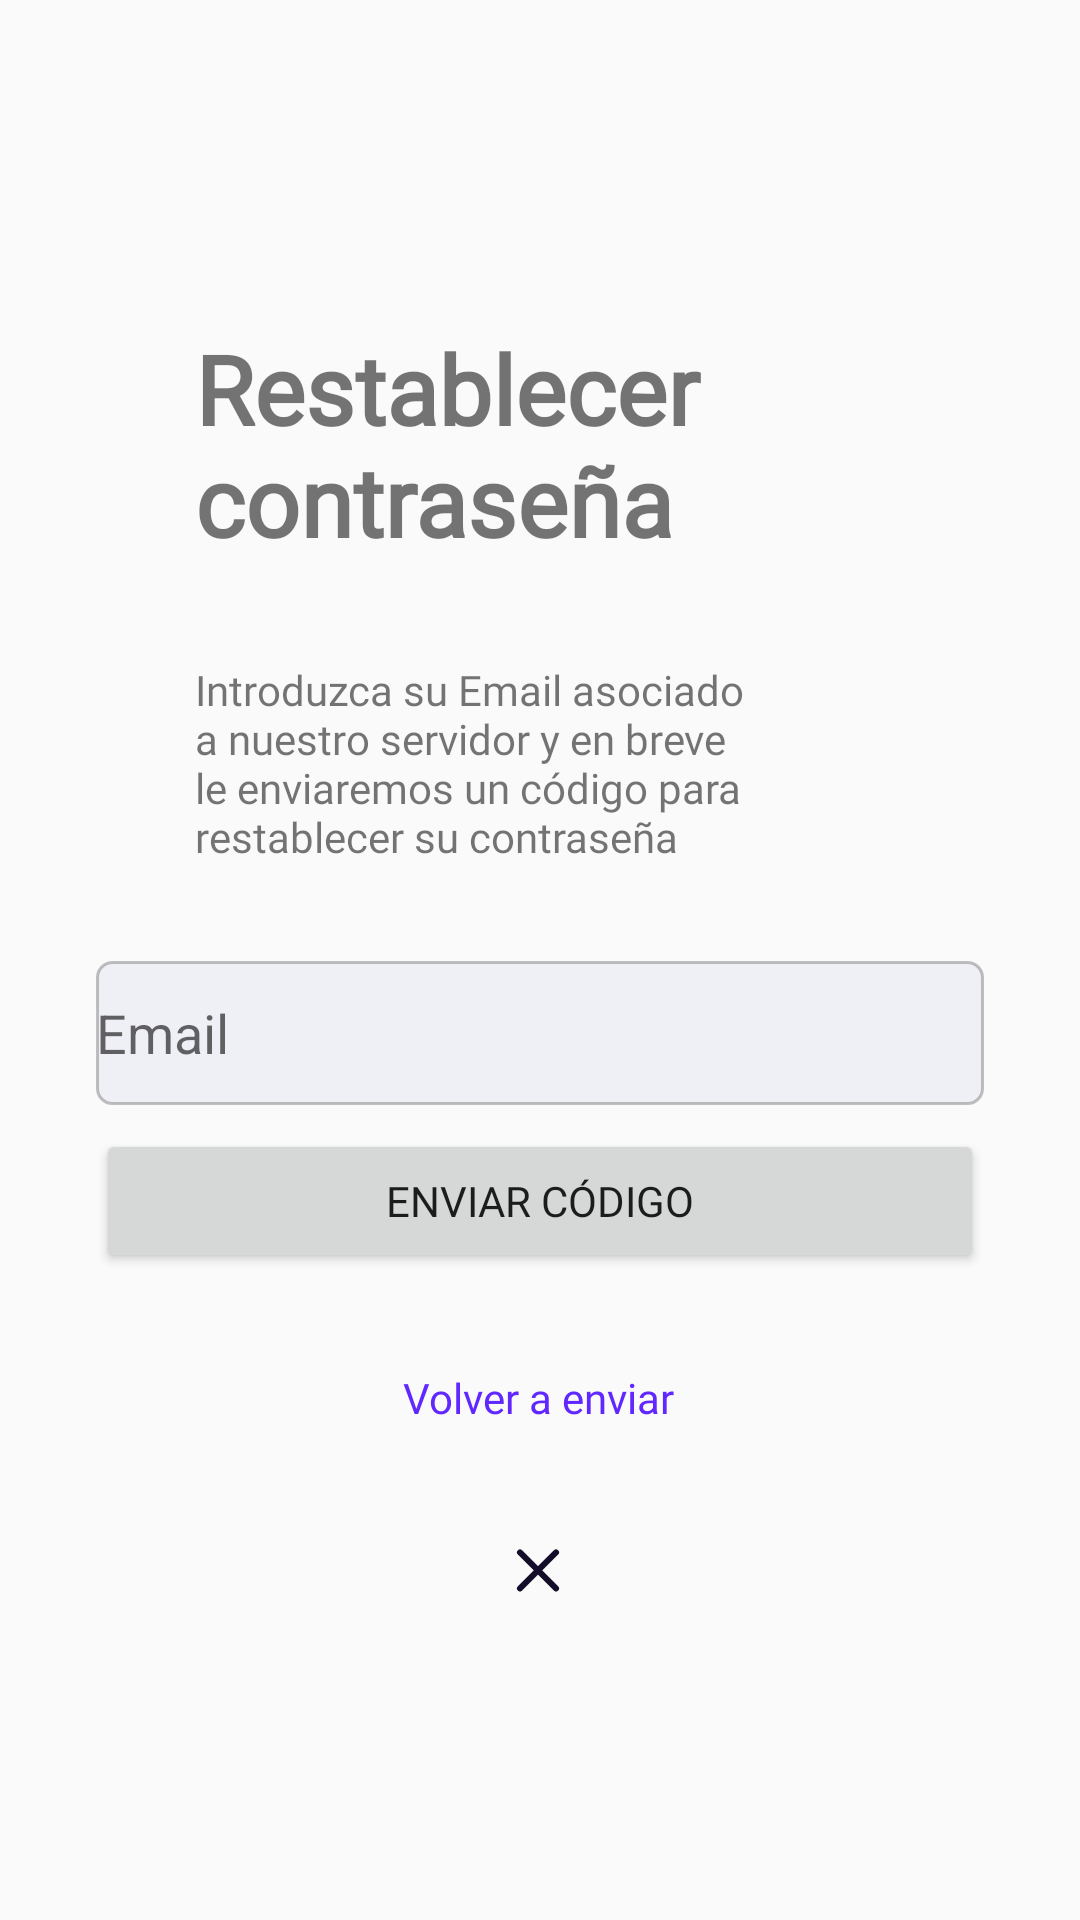

Point at icon controls on the screen. Image size 1080x1920, points as (x=x, y=y).
cruz cancelar: (x=538, y=1570)
